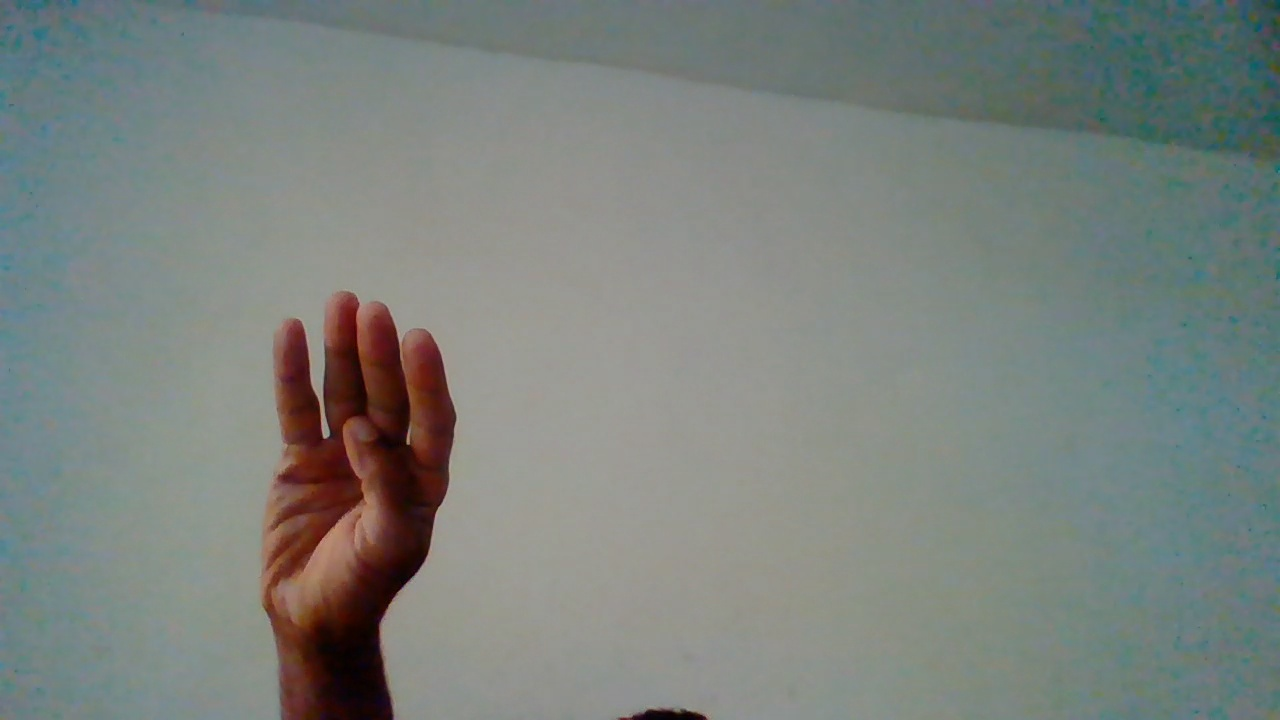me: (264, 291, 465, 700)
